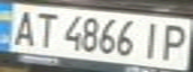4: (57, 12, 84, 52)
6: (115, 17, 139, 59), (96, 16, 121, 56)
8: (78, 15, 103, 54)
A: (6, 7, 39, 47)
I: (136, 19, 166, 61)
P: (157, 20, 193, 62)
T: (30, 9, 60, 48)
